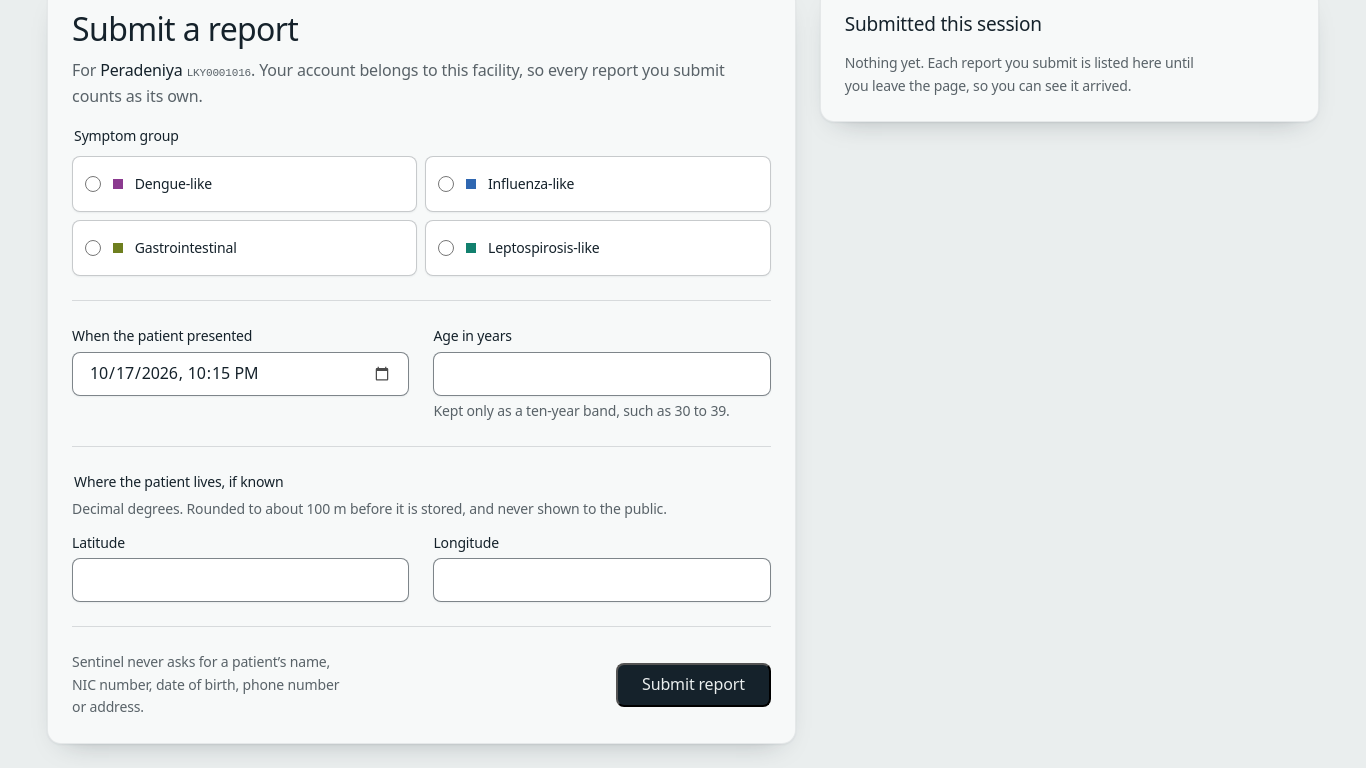
SubmitPage › asks for a symptom group and an age before sending anything
(page scrolled)
What coordinates should you click on to do the following:
click the button "Submit report"
I would click on:
 (693, 685)
Its box is [616,663,771,707].
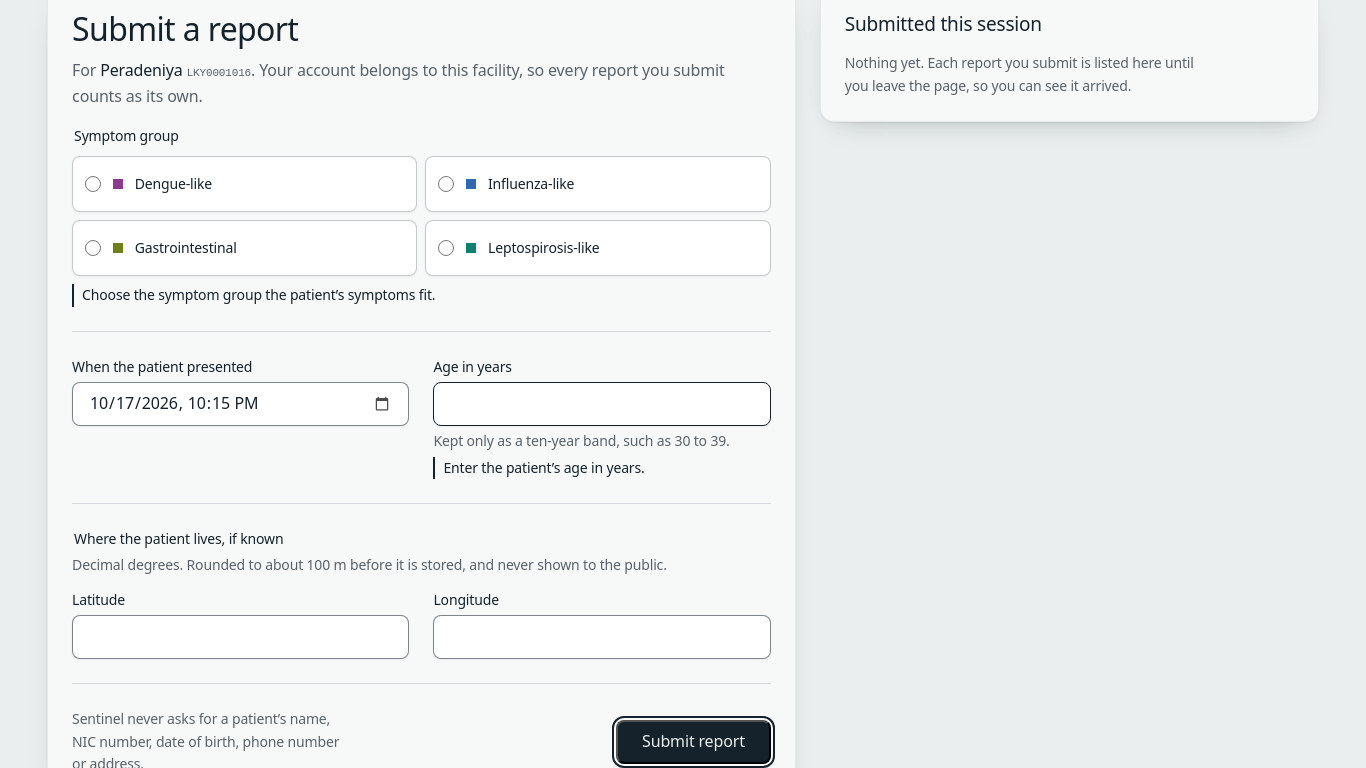
Expected: the text "Choose the symptom group the patient’s symptoms fit." is shown, [72,284,771,307]
Expected: the text "Enter the patient’s age in years." is shown, [433,457,771,479]
